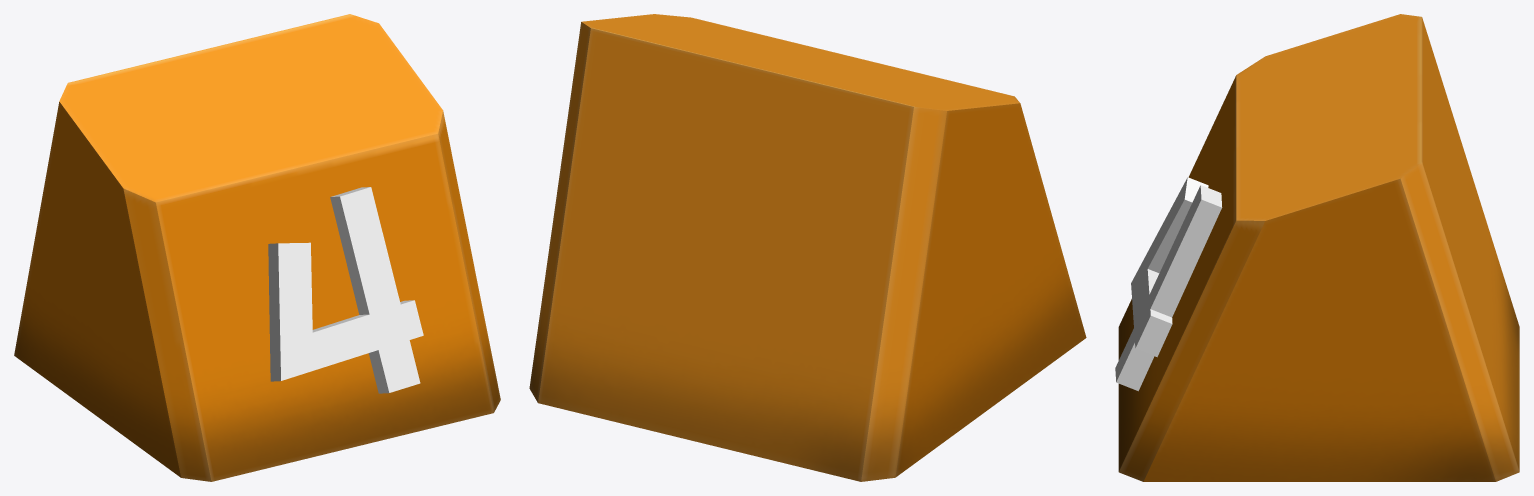
File: hole4Mesh.FBX
The picture shows the model from 3 angles, left to right: view 1: azimuth 30°, elevation 25°; view 2: azimuth 150°, elevation 25°; view 3: azimuth 270°, elevation 25°; orthographic projection. The views are drawn at different scales.
Parts seen in each view (by area): view 1: holeNumber4; view 2: holeNumber4; view 3: holeNumber4.
Part boxes in pixels (<box>): holeNumber4: <box>14,14,500,481</box>; holeNumber4: <box>529,14,1086,481</box>; holeNumber4: <box>1115,14,1519,481</box>.
Bounding box in the file's own units: 2026 × 1779 × 2102.
